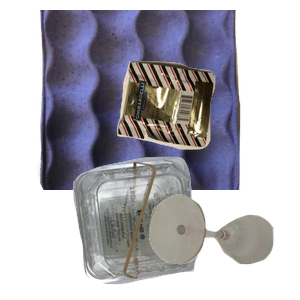glass: (147, 192, 300, 300)
paper: (35, 10, 268, 190)
plastic: (71, 154, 300, 300)
trash: (115, 58, 300, 200)
